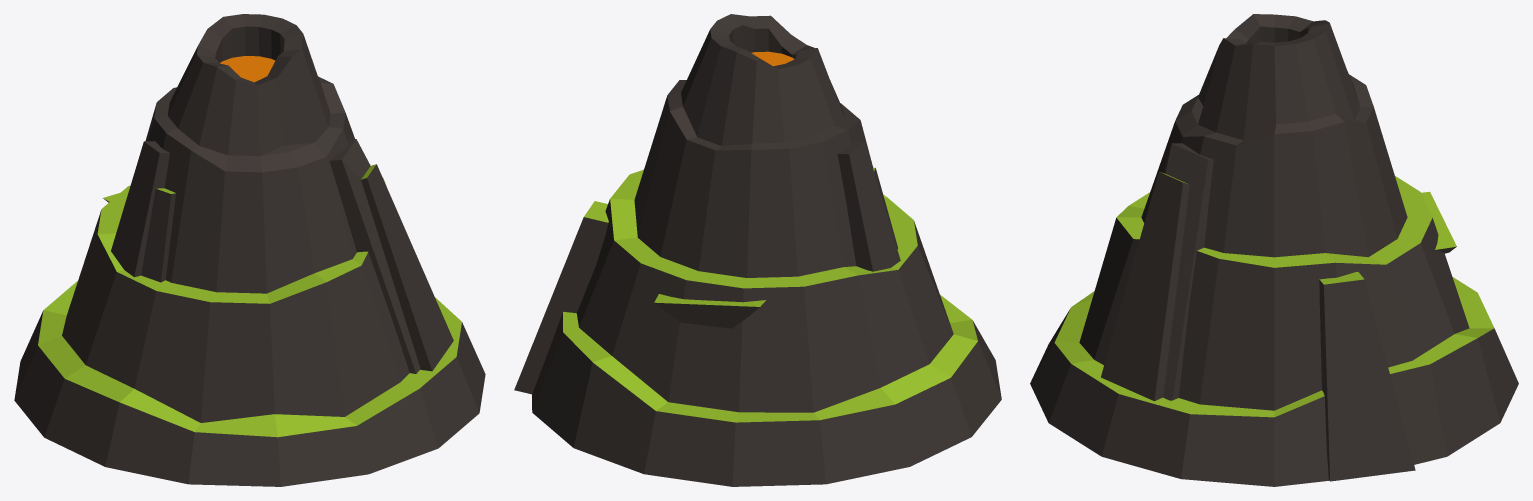
Rendered from Volcano.fbx.
The picture shows the model from 3 angles, left to right: view 1: azimuth 30°, elevation 25°; view 2: azimuth 150°, elevation 25°; view 3: azimuth 270°, elevation 25°; orthographic projection. The views are drawn at different scales.
Parts seen in each view (by area): view 1: Cube.002; view 2: Cube.002; view 3: Cube.002.
Boxes of the visible parts, x1,y1,x2,y2 form: Cube.002: (14, 14, 485, 486); Cube.002: (514, 14, 1001, 486); Cube.002: (1030, 14, 1518, 486).
Size of the model in its own units: 800 by 800 by 662.
